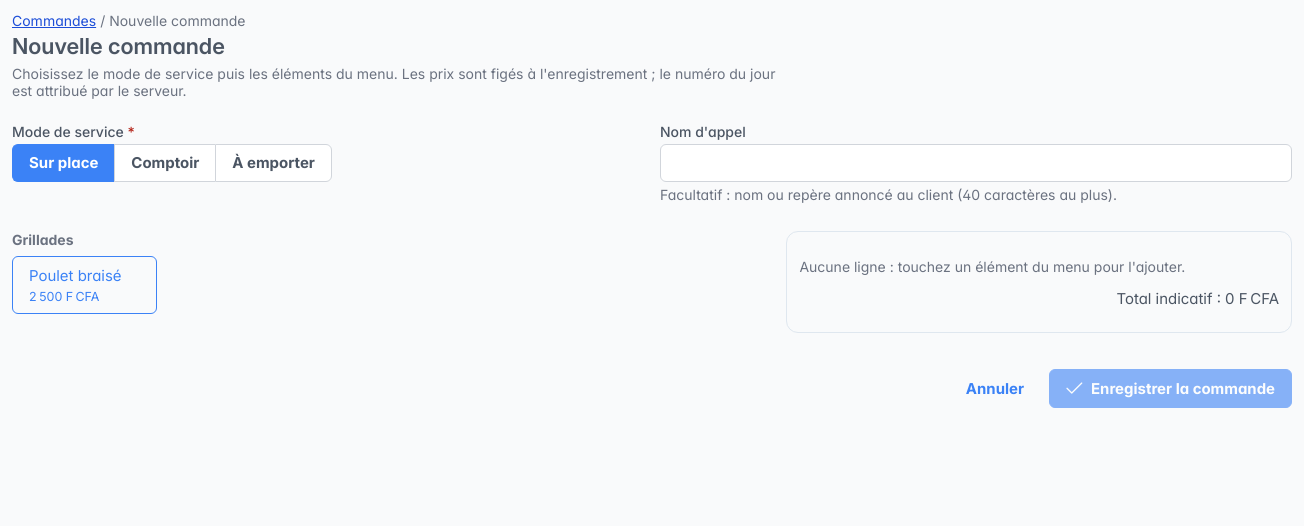
commandes de restauration — saisie (R2-E) › refus du serveur (élément devenu non commandable) : message détaillé, saisie conservée
What coordinates should you click on to do the following:
click the button with aria-label "Ajouter Poulet braisé"
I would click on:
 (85, 285)
Its box is [12, 256, 157, 314].
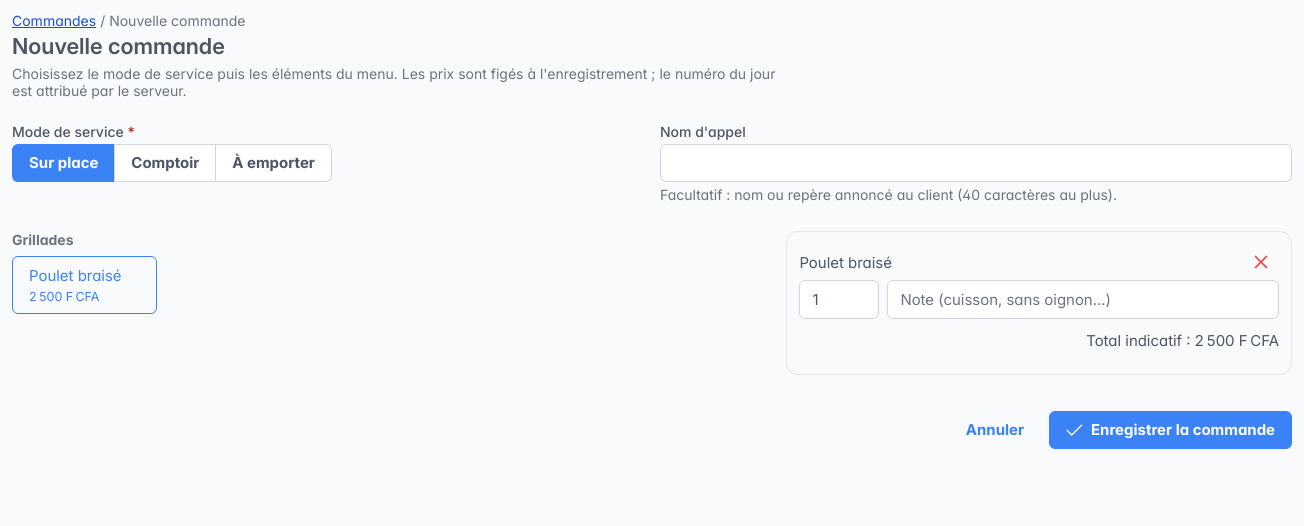
What coordinates should you click on to do the following:
click the button "Enregistrer la commande"
I would click on:
 (1170, 430)
Its box is [1049, 411, 1292, 449].
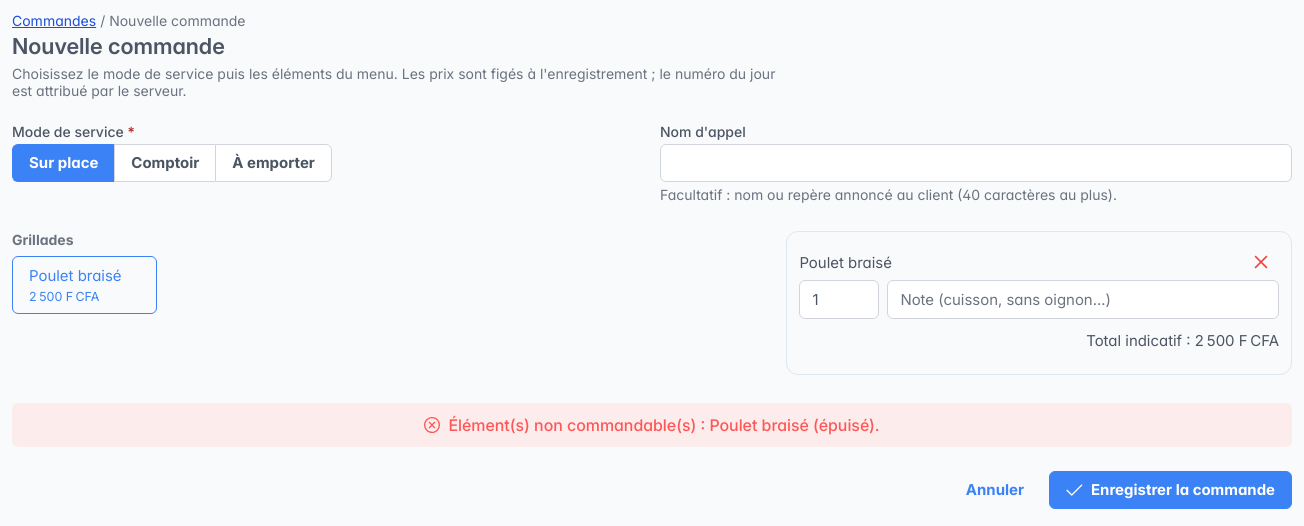
Check: the number of list items with test id "cart-line" is 1, box [799, 244, 1279, 319]
Check: the text "Élément(s) non commandable(s) : Poulet braisé (épuisé)." is shown, box [448, 415, 880, 435]
